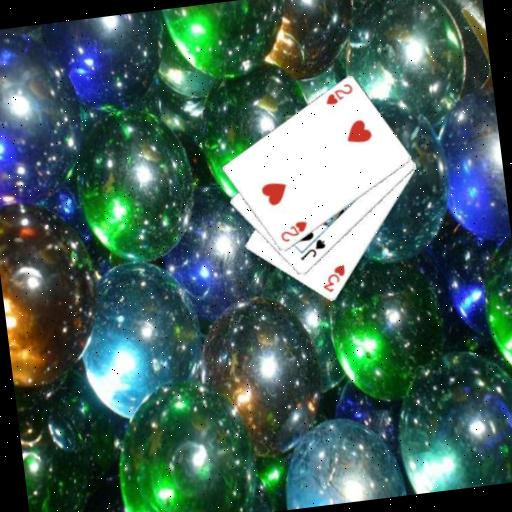2H: (321, 80, 356, 108), (276, 218, 311, 245)
3H: (318, 261, 350, 296)
JS: (295, 235, 329, 263)
